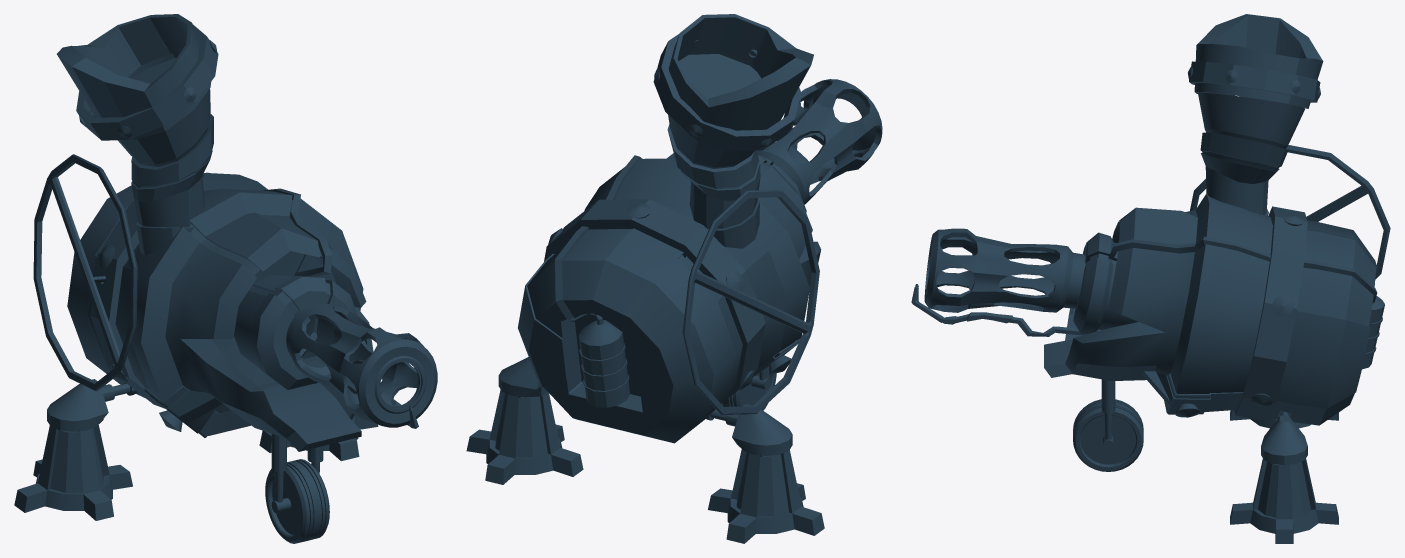
The model's file is Little_Flamethrower.fbx.
3 renders of one model, left to right at view 1: azimuth 30°, elevation 25°; view 2: azimuth 150°, elevation 25°; view 3: azimuth 270°, elevation 25°, orthographic. The views are drawn at different scales.
Visible parts, largest first — view 1: Body_Base_low, Chimney_low, Embout_low, Feets_low, turning_wheel_low, Wheel_low, Body_Panel_low, Chimney_Belt_low, Body_Base_Belt_low, Body_Base_details_low, Tank_Cable_001_low; view 2: Body_Panel_low, Chimney_low, Body_Base_low, Feets_low, Embout_low, Body_Base_Belt_low, turning_wheel_low, Tank_Cable_001_low, Chimney_Belt_low, Wheel_low, Screw_001_low, Body_Base_details_low; view 3: Body_Base_low, Chimney_low, Embout_low, Body_Panel_low, Feets_low, Body_Base_Belt_low, Wheel_low, Chimney_Belt_low, Tank_Cable_001_low, turning_wheel_low, Body_Base_details_low, FlameThrowerCable_low (+1 smaller).
Part boxes in pixels (left/top/right/bottom): Body_Base_low: left=96, top=188, right=373, bottom=451; Chimney_low: left=57, top=14, right=213, bottom=255; Embout_low: left=286, top=303, right=437, bottom=427; Feets_low: left=14, top=379, right=378, bottom=520; turning_wheel_low: left=33, top=154, right=137, bottom=391; Wheel_low: left=265, top=434, right=329, bottom=543; Body_Panel_low: left=67, top=185, right=153, bottom=397; Chimney_Belt_low: left=76, top=24, right=218, bottom=140; Body_Base_Belt_low: left=90, top=173, right=267, bottom=408; Body_Base_details_low: left=144, top=385, right=222, bottom=437; Tank_Cable_001_low: left=206, top=172, right=331, bottom=356; Body_Panel_low: left=518, top=228, right=788, bottom=443; Chimney_low: left=667, top=14, right=813, bottom=248; Body_Base_low: left=527, top=154, right=821, bottom=411; Feets_low: left=466, top=357, right=824, bottom=543; Embout_low: left=757, top=79, right=882, bottom=204; Body_Base_Belt_low: left=544, top=199, right=765, bottom=401; turning_wheel_low: left=682, top=190, right=819, bottom=414; Tank_Cable_001_low: left=555, top=153, right=674, bottom=407; Chimney_Belt_low: left=653, top=34, right=801, bottom=151; Wheel_low: left=721, top=366, right=776, bottom=410; Screw_001_low: left=548, top=203, right=754, bottom=390; Body_Base_details_low: left=753, top=335, right=801, bottom=376; Body_Base_low: left=1044, top=194, right=1376, bottom=393; Chimney_low: left=1194, top=14, right=1323, bottom=215; Embout_low: left=924, top=228, right=1085, bottom=312; Body_Panel_low: left=1205, top=220, right=1377, bottom=425; Feets_low: left=1230, top=410, right=1338, bottom=543; Body_Base_Belt_low: left=1234, top=206, right=1307, bottom=421; Wheel_low: left=1073, top=379, right=1143, bottom=471; Chimney_Belt_low: left=1188, top=61, right=1320, bottom=102; Tank_Cable_001_low: left=1108, top=236, right=1384, bottom=369; turning_wheel_low: left=1190, top=145, right=1390, bottom=279; Body_Base_details_low: left=1142, top=371, right=1210, bottom=417; FlameThrowerCable_low: left=911, top=284, right=1099, bottom=336.
Size of the model in its own units: 1003 by 1276 by 1352.
